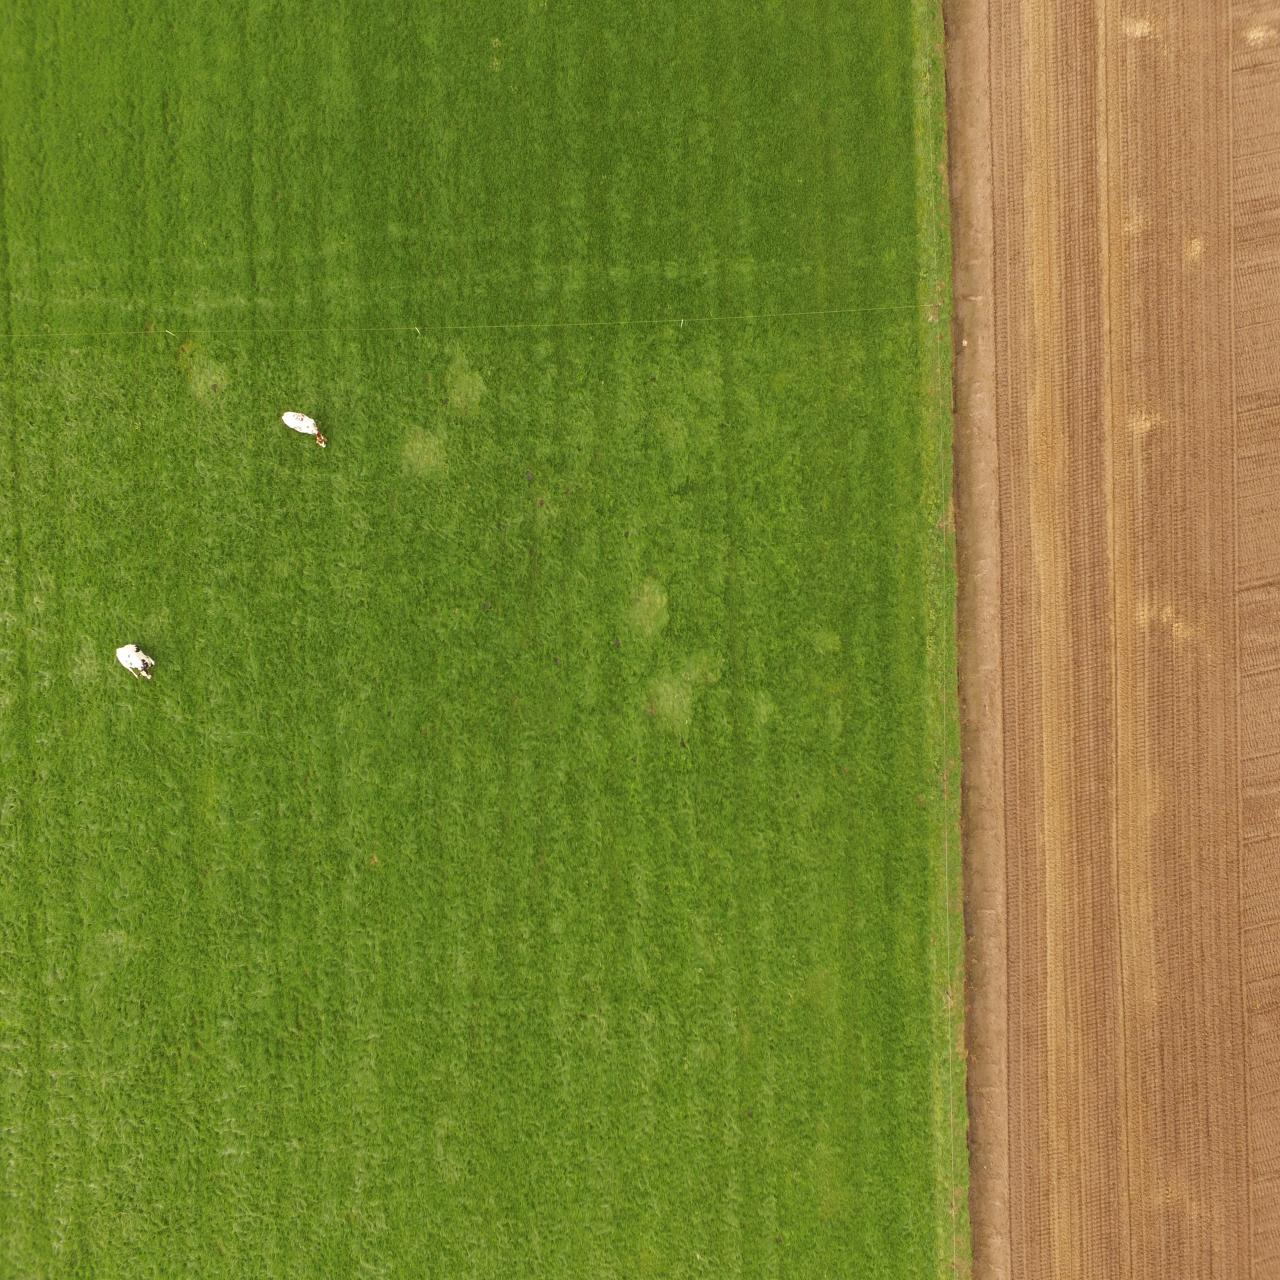cow: (277, 406, 329, 452), (111, 639, 157, 686)
